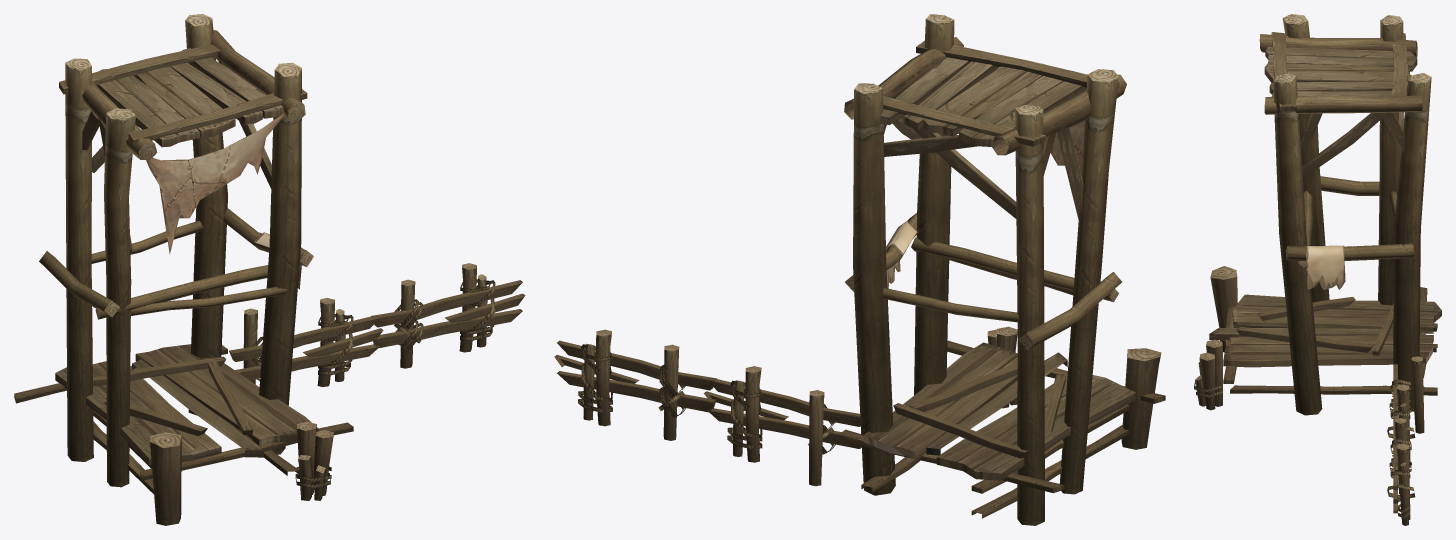
File: fb_chisd_mujia_a.FBX
3 renders of one model, left to right at view 1: azimuth 30°, elevation 25°; view 2: azimuth 150°, elevation 25°; view 3: azimuth 270°, elevation 25°, orthographic. The views are drawn at different scales.
Parts seen in each view (by area): view 1: fb_chisd_mujia_a; view 2: fb_chisd_mujia_a; view 3: fb_chisd_mujia_a.
Part boxes in pixels (left/top/right/bottom): fb_chisd_mujia_a: left=14, top=14, right=525, bottom=525; fb_chisd_mujia_a: left=554, top=14, right=1165, bottom=525; fb_chisd_mujia_a: left=1194, top=14, right=1441, bottom=525.
Bounding box in the file's own units: 1134 × 868 × 573.
